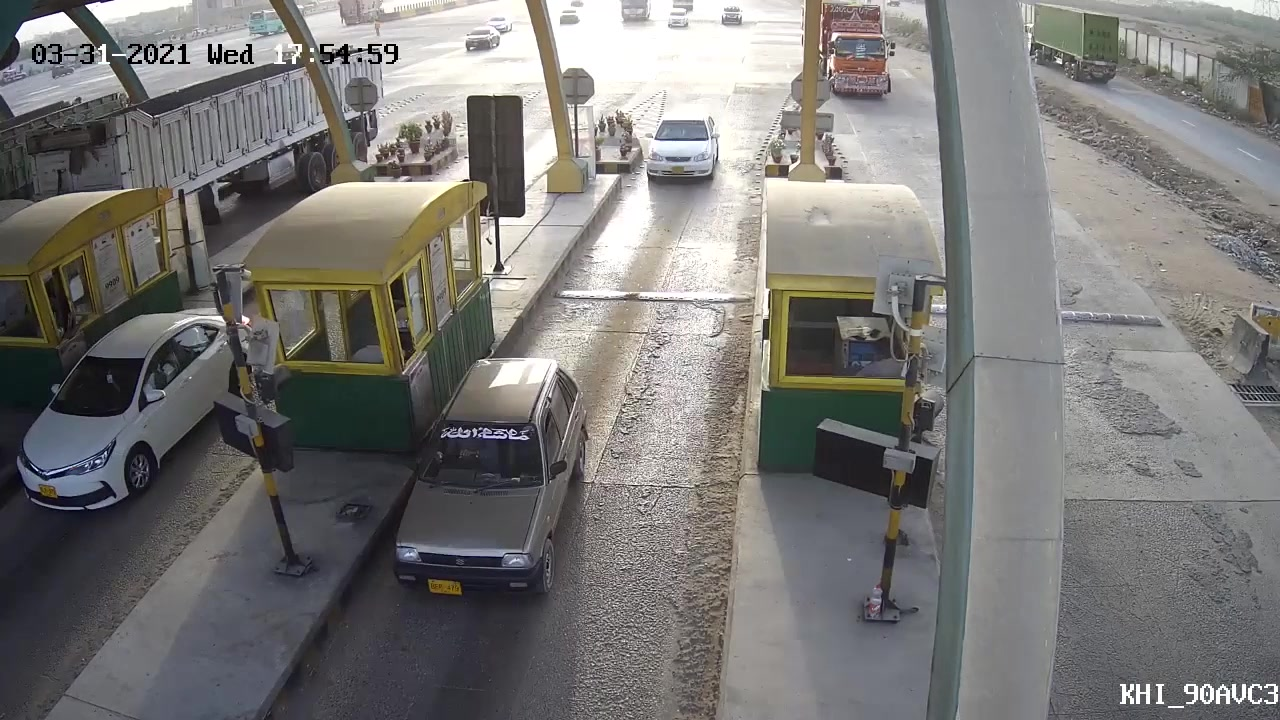F1: (375, 356, 600, 595)
